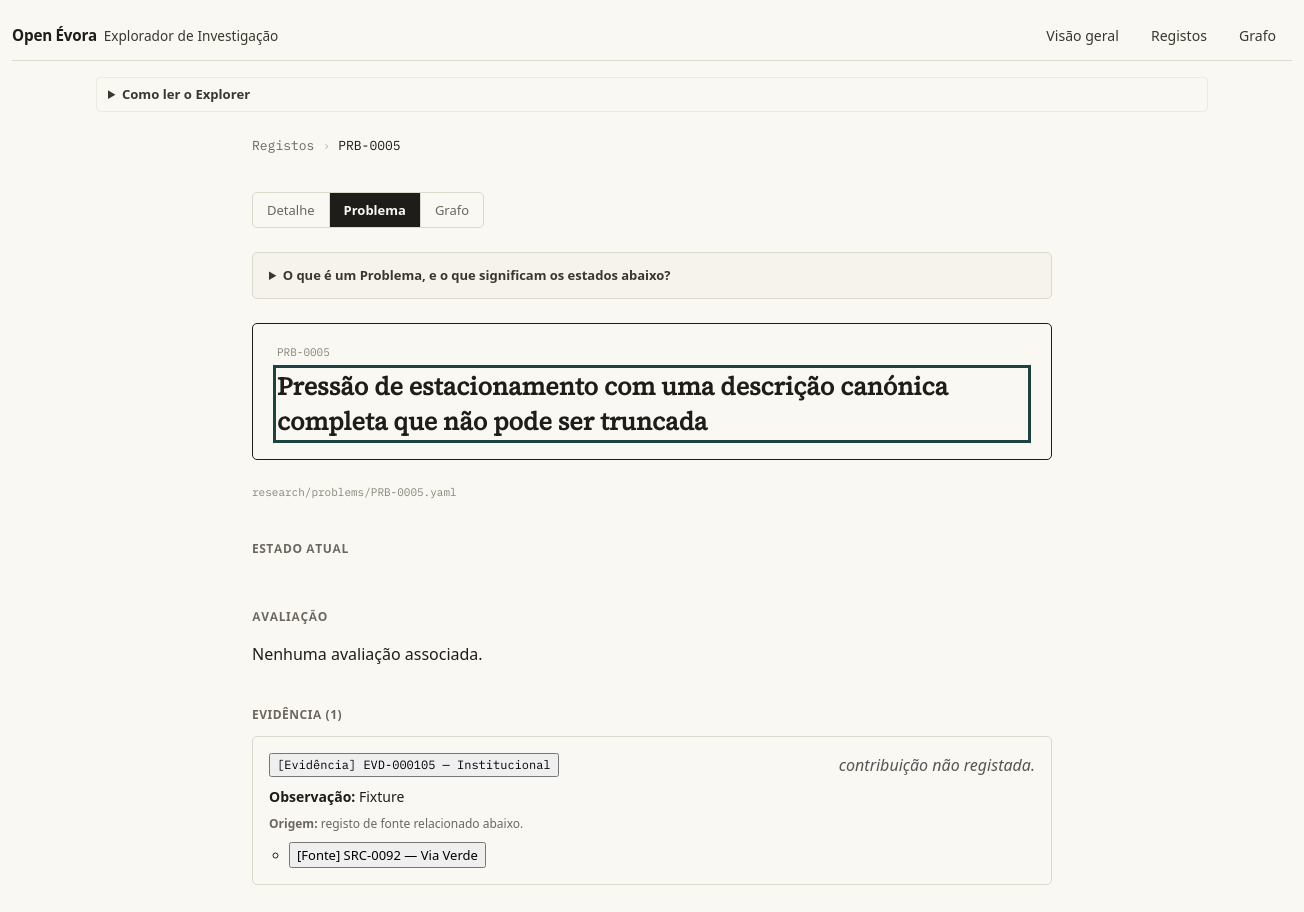
Explorer — Problem view (RE-03) › clicking a linked Evidence in the Problem view opens it through the generic Records detail
Expected: the heading "Pressão de estacionamento" is shown, [277, 369, 1027, 439]
What coordinates should you click on to do the following:
click the button "[Evidência] EVD-000105 — Institucional"
I would click on:
 (414, 765)
Its box is [269, 753, 559, 777].
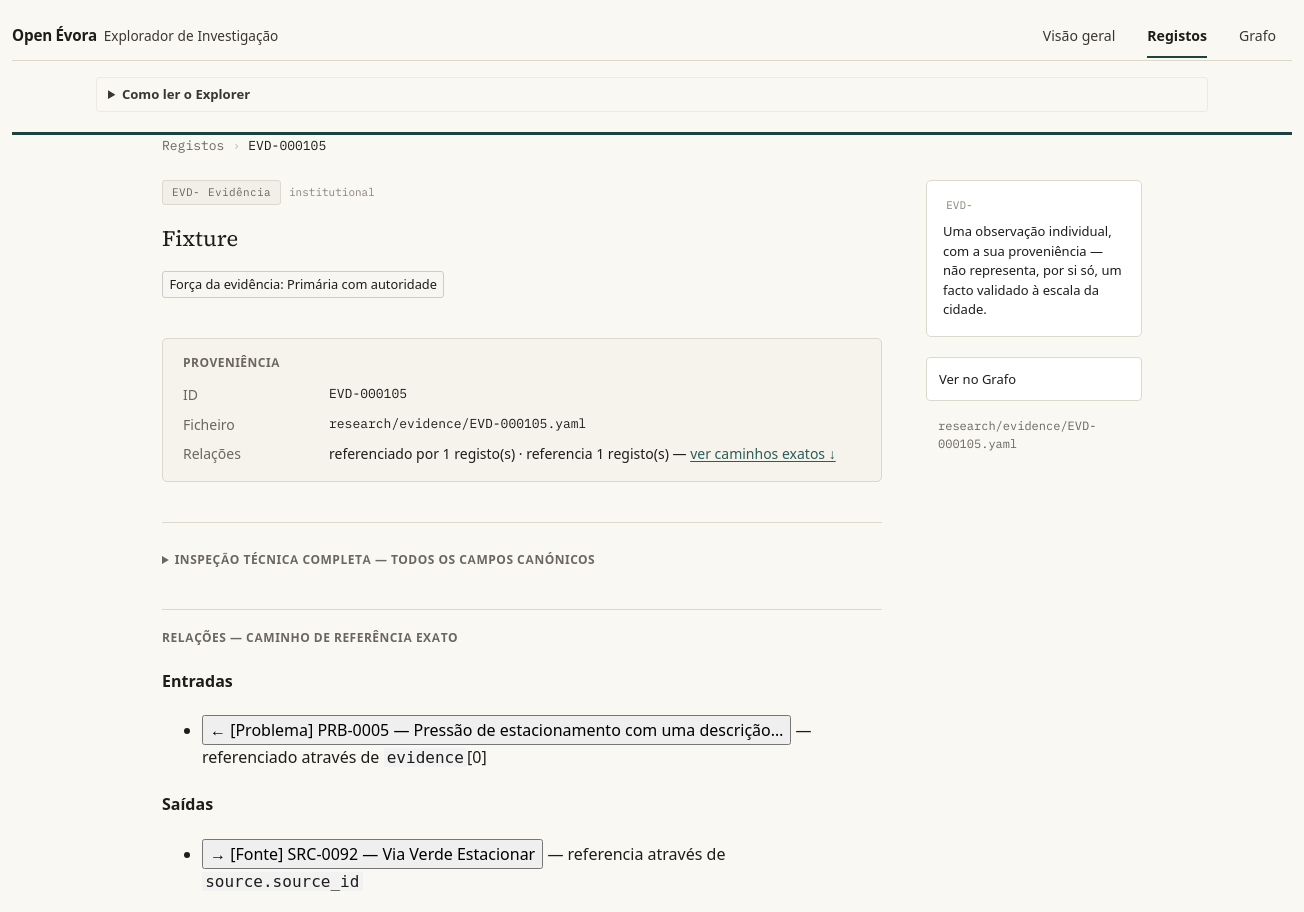
Expected: the button "→ [Fonte] SRC-0092 — Via Verde Estacionar" is shown, [202, 838, 543, 869]
